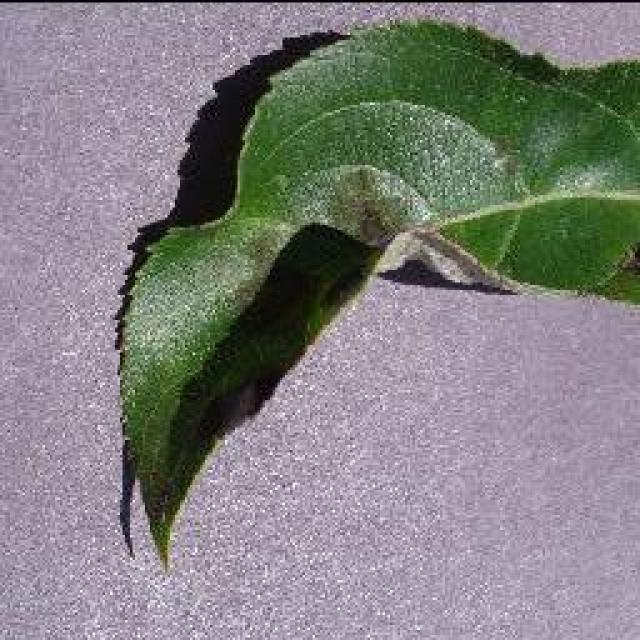apple scab disease: (110, 18, 638, 570)
